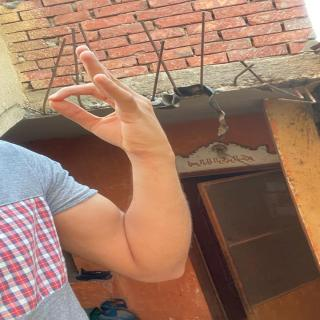Space: (52, 41, 164, 142)
